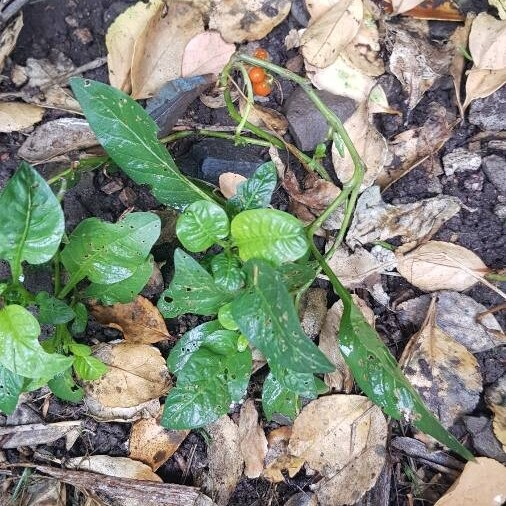obstacle: (57, 82, 298, 382)
